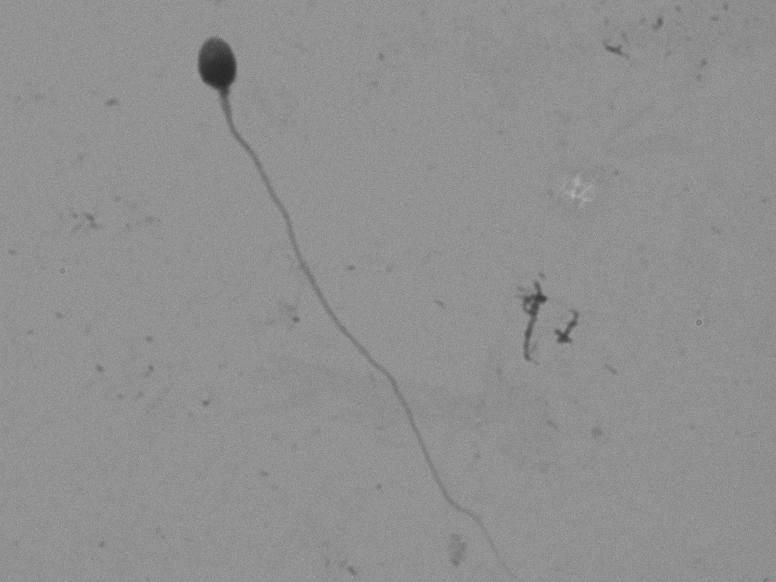Normal: (153, 20, 506, 564)
